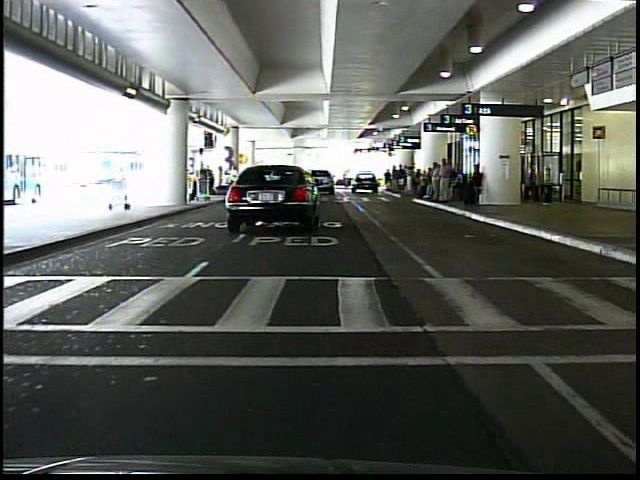person: (435, 154, 457, 207), (114, 164, 135, 210)
